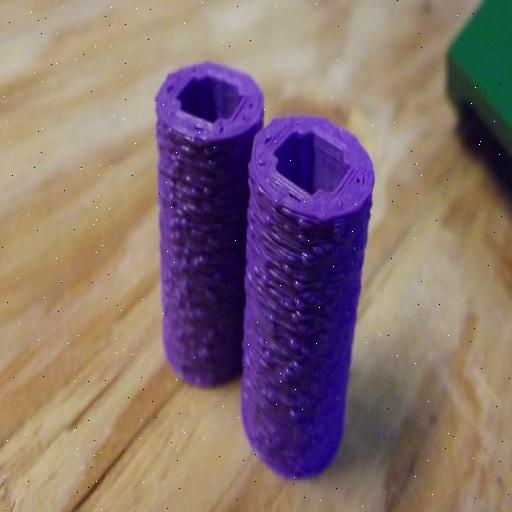blobs: (162, 208, 223, 342), (270, 354, 331, 458), (288, 226, 337, 332), (246, 194, 274, 354), (153, 141, 223, 197)
